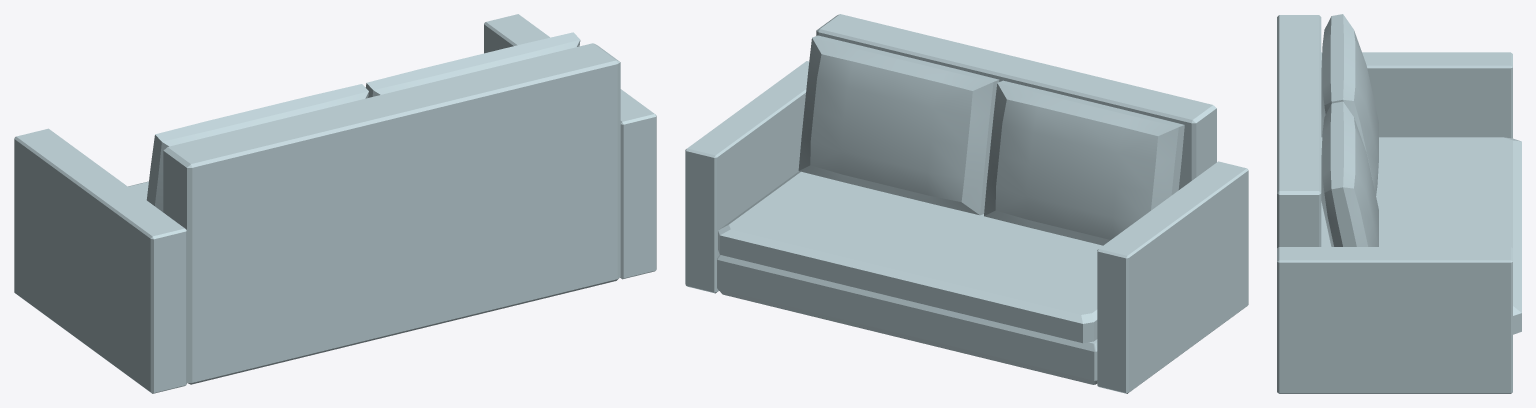
Rendered from Sofa.fbx.
3 renders of one model, left to right at view 1: azimuth 30°, elevation 25°; view 2: azimuth 150°, elevation 25°; view 3: azimuth 270°, elevation 25°, orthographic. The views are drawn at different scales.
Visible parts, largest first — view 1: polySurface16; view 2: polySurface16; view 3: polySurface16.
Part boxes in pixels (box(x1,y1,x2,y2)): polySurface16: box(14, 14, 656, 393); polySurface16: box(685, 14, 1248, 393); polySurface16: box(1277, 14, 1521, 393).
Bounding box in the file's own units: 8.4 × 3.53 × 4.15.
